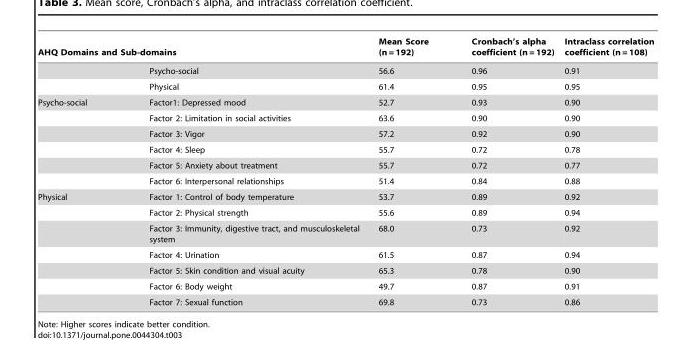table: (37, 36, 653, 306)
table column: (117, 36, 368, 306), (449, 36, 558, 306), (558, 36, 653, 306), (368, 36, 449, 306), (37, 36, 117, 306)
table column header: (37, 36, 653, 78)
table row: (37, 220, 653, 246), (37, 36, 653, 61), (37, 61, 653, 78), (37, 78, 653, 94), (37, 94, 653, 110), (37, 125, 653, 141), (37, 141, 653, 157), (37, 157, 653, 173), (37, 188, 653, 204), (37, 204, 653, 220), (37, 246, 653, 262), (37, 262, 653, 278), (37, 278, 653, 294), (37, 110, 653, 125), (37, 173, 653, 188), (37, 294, 653, 306)
table spanning cell: (37, 188, 117, 306), (37, 36, 368, 61), (37, 94, 117, 188), (449, 36, 558, 78), (558, 36, 653, 78), (368, 36, 449, 78)
